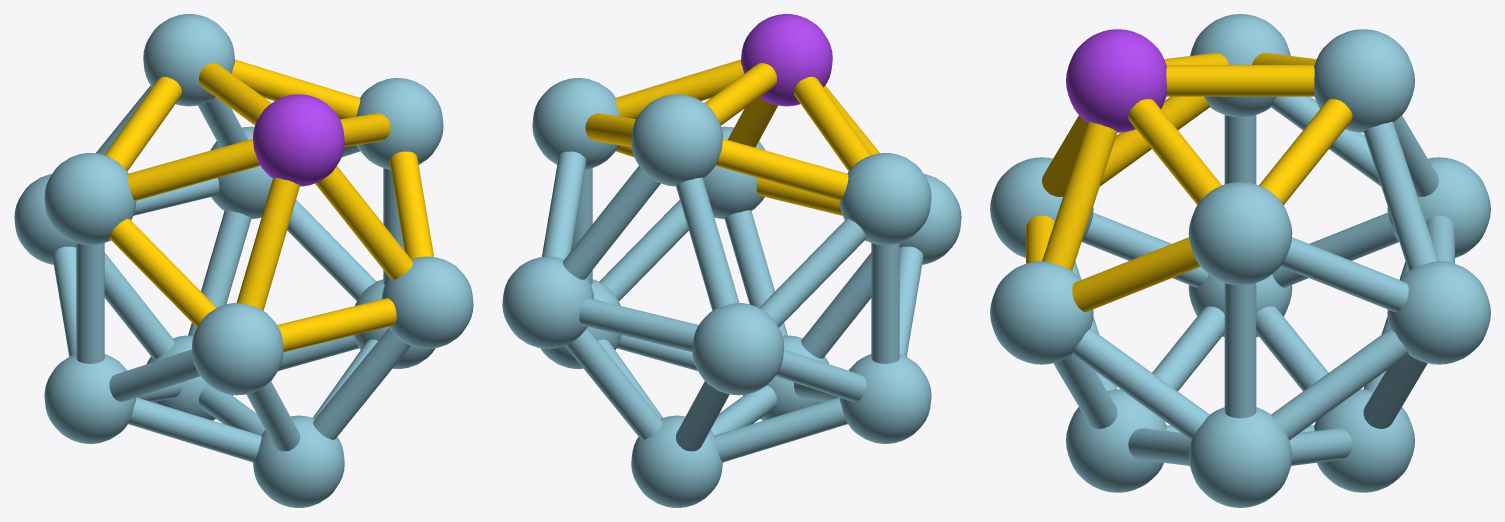
Rendered from yuanzijingti3.FBX.
The picture shows the model from 3 angles, left to right: view 1: azimuth 30°, elevation 25°; view 2: azimuth 150°, elevation 25°; view 3: azimuth 270°, elevation 25°; orthographic projection. The views are drawn at different scales.
Parts seen in each view (by area): view 1: Y3; view 2: Y3; view 3: Y3.
Boxes of the visible parts, box(x1,y1,x2,y2) form: Y3: box(14, 14, 473, 507); Y3: box(502, 14, 961, 507); Y3: box(990, 14, 1490, 507).
Bounding box in the file's own units: 36.59 × 36.59 × 36.59.
